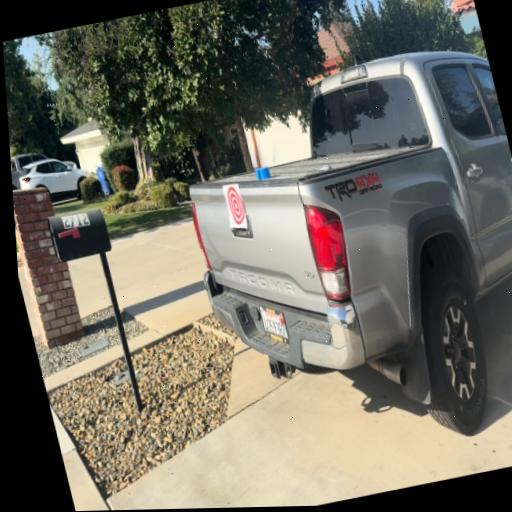bullseye: (223, 183, 247, 228)
